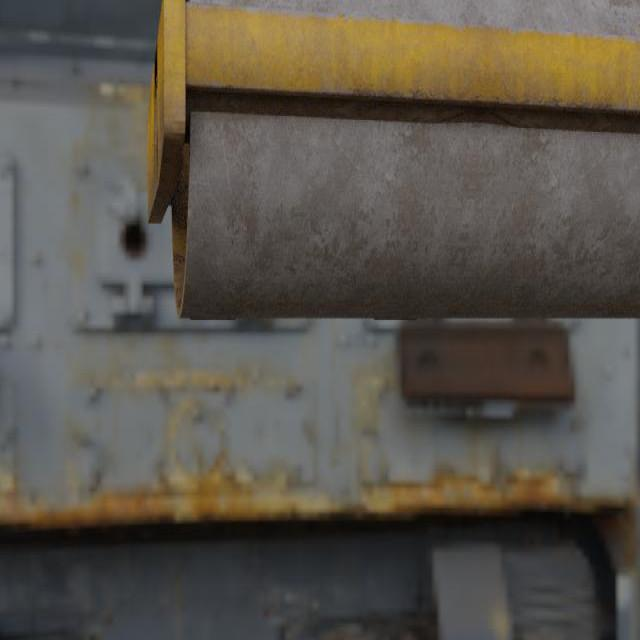Roller: (147, 0, 640, 321)
